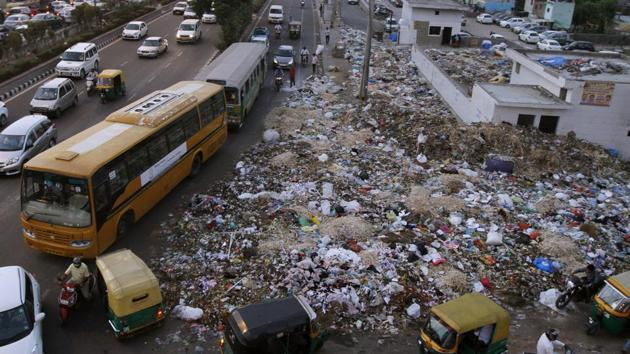road: (0, 177, 184, 353), (119, 68, 288, 259), (0, 177, 181, 353), (117, 89, 279, 260), (53, 14, 218, 141), (58, 29, 217, 141), (287, 0, 315, 51), (7, 89, 34, 121), (9, 87, 34, 118), (151, 15, 176, 34)
trash: (148, 42, 630, 351), (341, 27, 365, 65)
